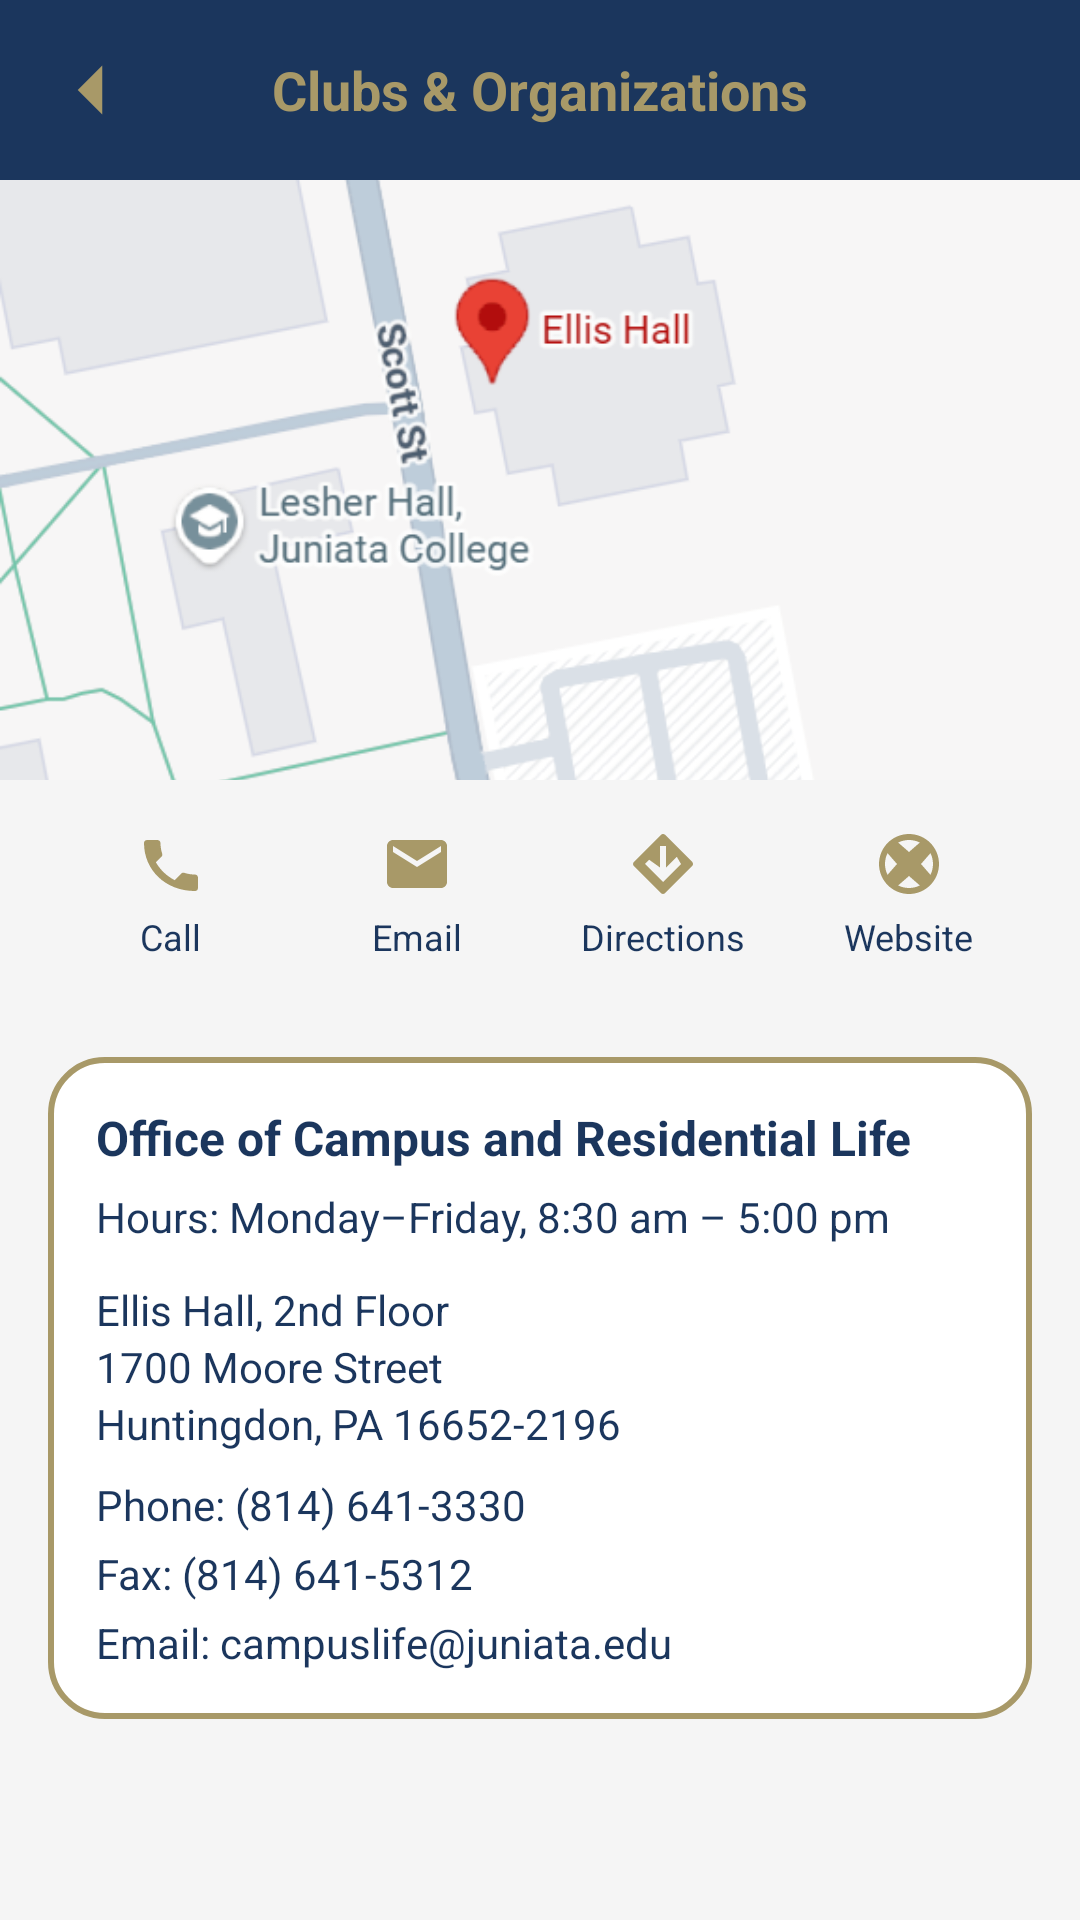

Icons on this 1080*1920 Android screen, each with the point to tap as point (x, y):
back: point (90, 90)
